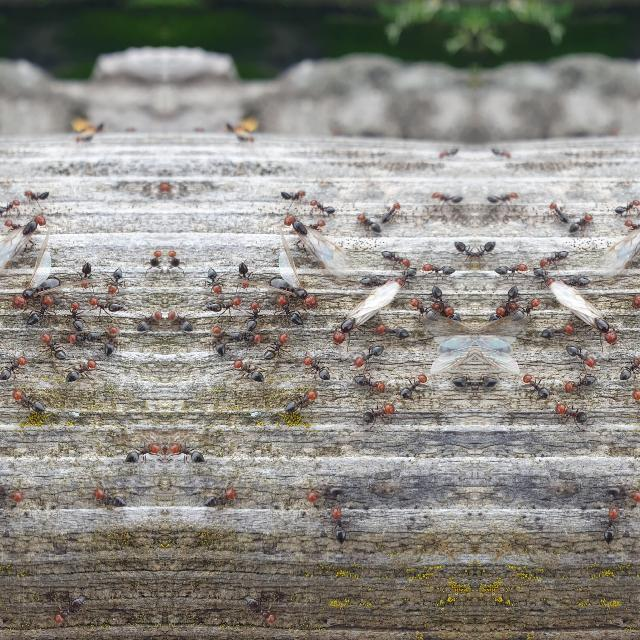Crematogaster: (331, 281, 402, 349), (548, 281, 618, 349), (278, 215, 348, 268), (257, 256, 323, 310), (5, 256, 71, 310), (0, 214, 49, 267), (601, 214, 640, 267), (164, 438, 206, 468), (122, 438, 164, 468), (323, 499, 349, 546), (600, 499, 626, 546), (202, 482, 240, 514), (434, 330, 474, 360), (475, 330, 515, 360), (88, 482, 125, 514), (242, 595, 276, 625), (52, 595, 86, 625), (228, 356, 266, 382), (62, 356, 100, 382), (274, 298, 304, 330), (164, 307, 196, 337), (24, 298, 54, 330), (132, 307, 164, 337), (298, 355, 334, 381), (397, 372, 428, 402), (351, 344, 384, 372), (266, 182, 306, 205), (22, 182, 62, 205), (359, 402, 397, 426), (552, 402, 590, 426), (522, 372, 552, 402), (566, 344, 598, 372), (282, 390, 318, 414), (10, 390, 46, 414), (429, 188, 471, 208), (478, 188, 520, 208), (484, 303, 518, 327), (0, 355, 30, 381), (432, 303, 464, 327), (626, 256, 640, 310), (355, 210, 383, 236), (262, 331, 288, 359), (566, 210, 594, 236), (40, 331, 66, 359), (375, 322, 413, 341), (536, 322, 574, 341), (102, 324, 126, 354), (604, 481, 640, 501), (202, 324, 225, 354), (310, 481, 344, 501), (562, 373, 596, 393), (528, 264, 556, 288), (230, 260, 252, 290), (76, 260, 98, 290), (615, 355, 640, 381), (394, 264, 421, 288), (354, 373, 386, 393), (200, 270, 226, 294), (164, 246, 188, 272), (102, 270, 128, 294), (140, 246, 164, 272), (382, 246, 410, 268), (539, 246, 567, 268), (512, 300, 542, 320), (408, 300, 437, 320), (244, 302, 264, 330), (205, 300, 245, 314), (454, 238, 474, 266), (64, 302, 84, 330), (83, 300, 123, 314), (475, 238, 495, 266), (422, 261, 456, 277), (305, 198, 335, 216), (494, 261, 526, 277), (614, 197, 640, 216), (550, 198, 568, 225), (474, 378, 496, 400), (562, 274, 592, 290), (358, 274, 387, 290), (431, 290, 452, 312), (454, 378, 474, 400), (498, 290, 518, 312), (0, 197, 23, 216), (68, 328, 99, 342), (382, 198, 398, 225), (230, 328, 260, 342), (436, 144, 460, 160), (489, 144, 513, 160), (0, 481, 18, 501), (631, 390, 640, 414), (236, 134, 254, 144), (74, 134, 92, 144)
